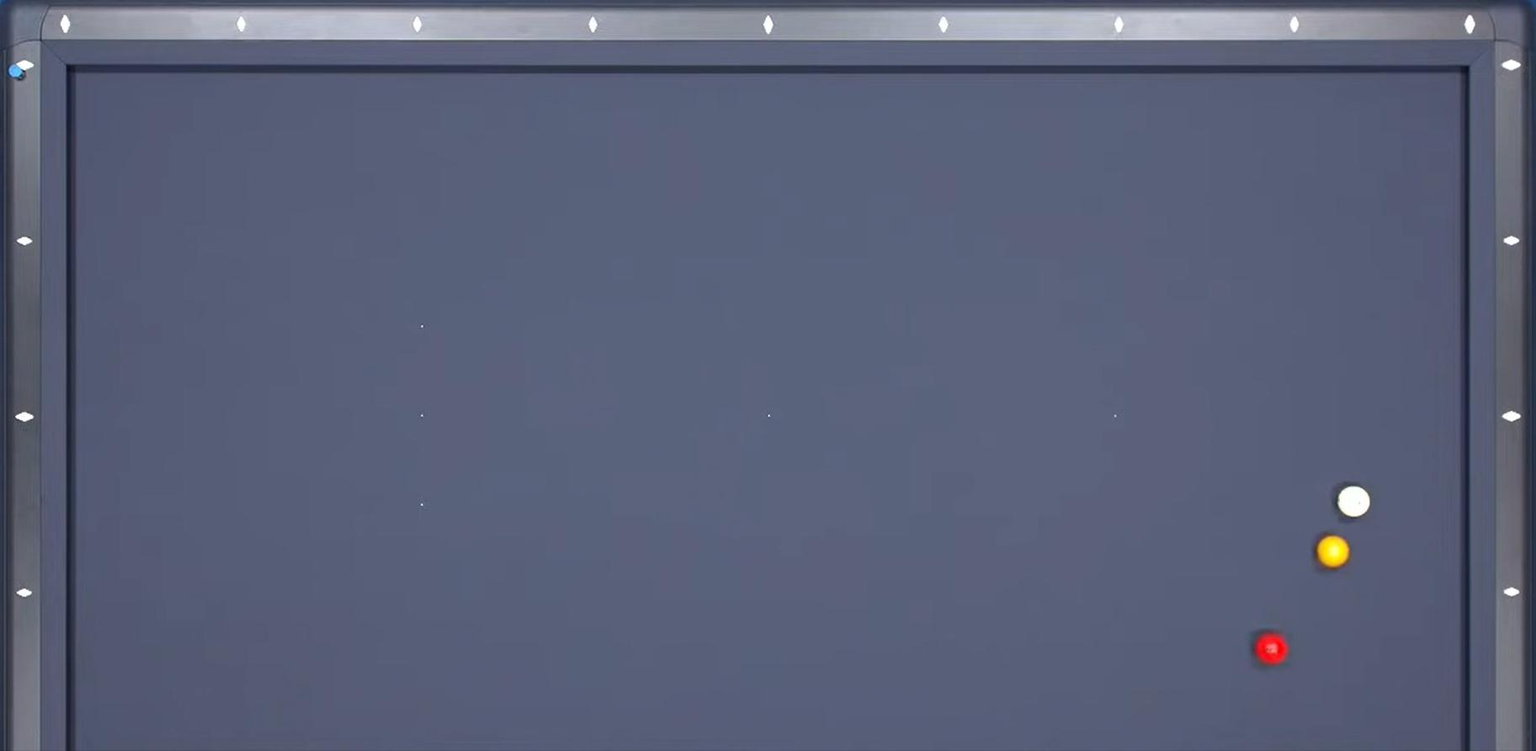red ball: (1253, 627, 1290, 671)
white ball: (1333, 482, 1374, 520)
yellow ball: (1315, 534, 1350, 571)
